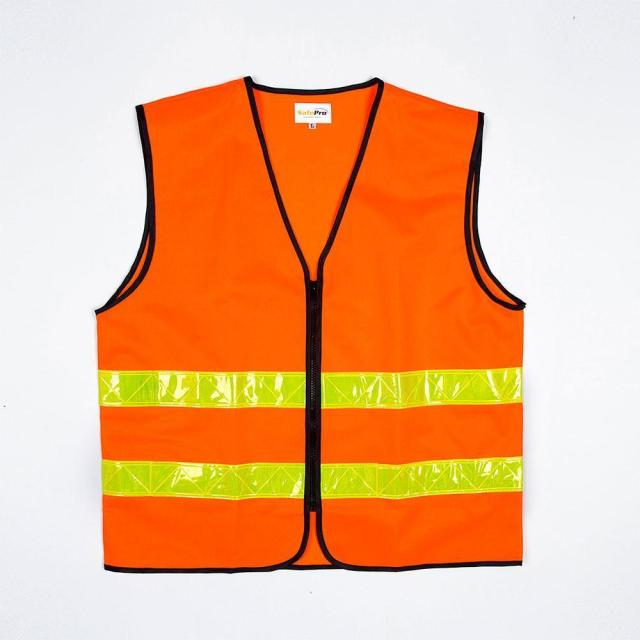Vest: (88, 76, 527, 571)
